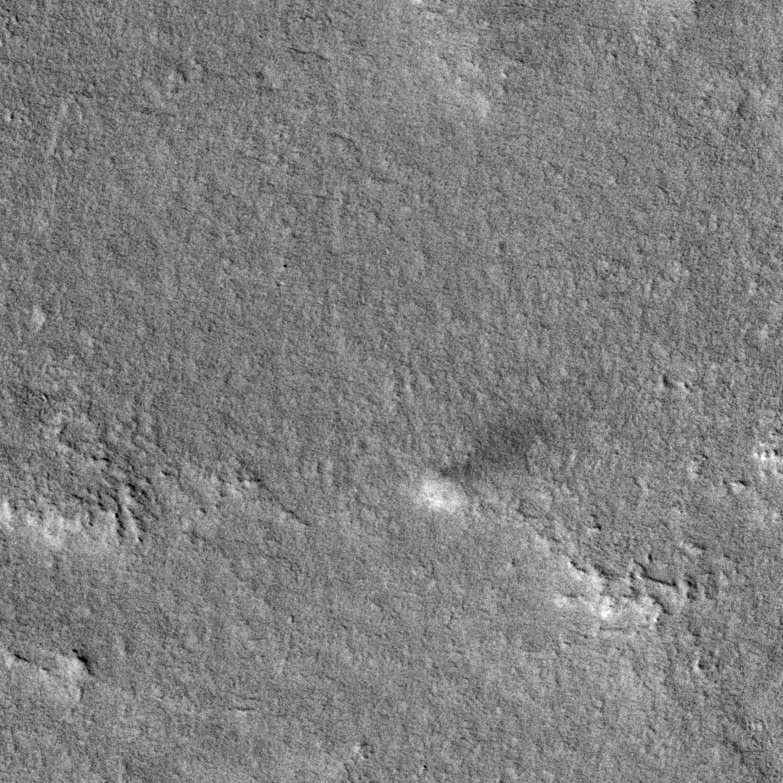dust_devil: (415, 409, 548, 518)
